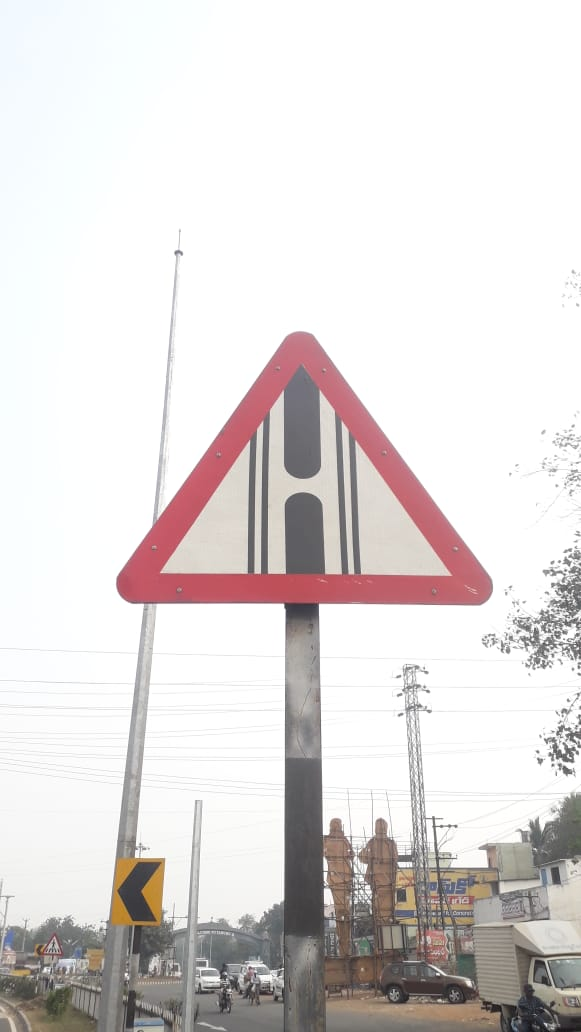highway go straight: (115, 314, 512, 628)
